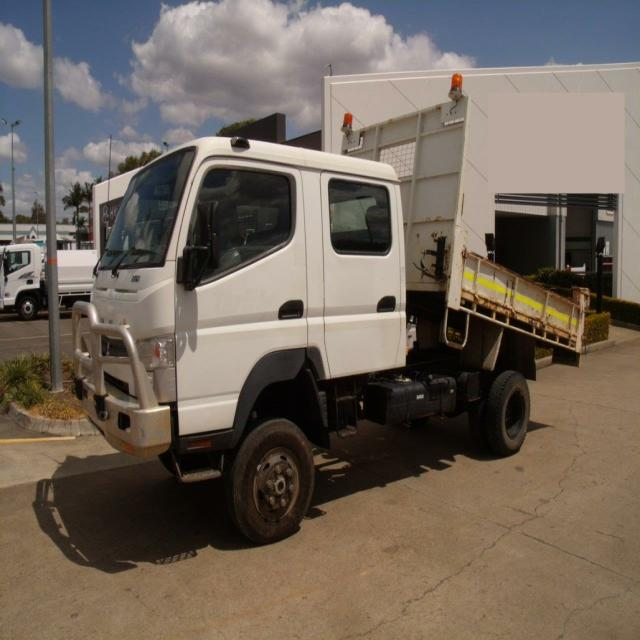Truck: (61, 75, 590, 542)
